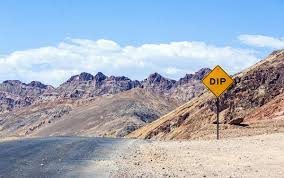dip: (203, 65, 234, 97)
